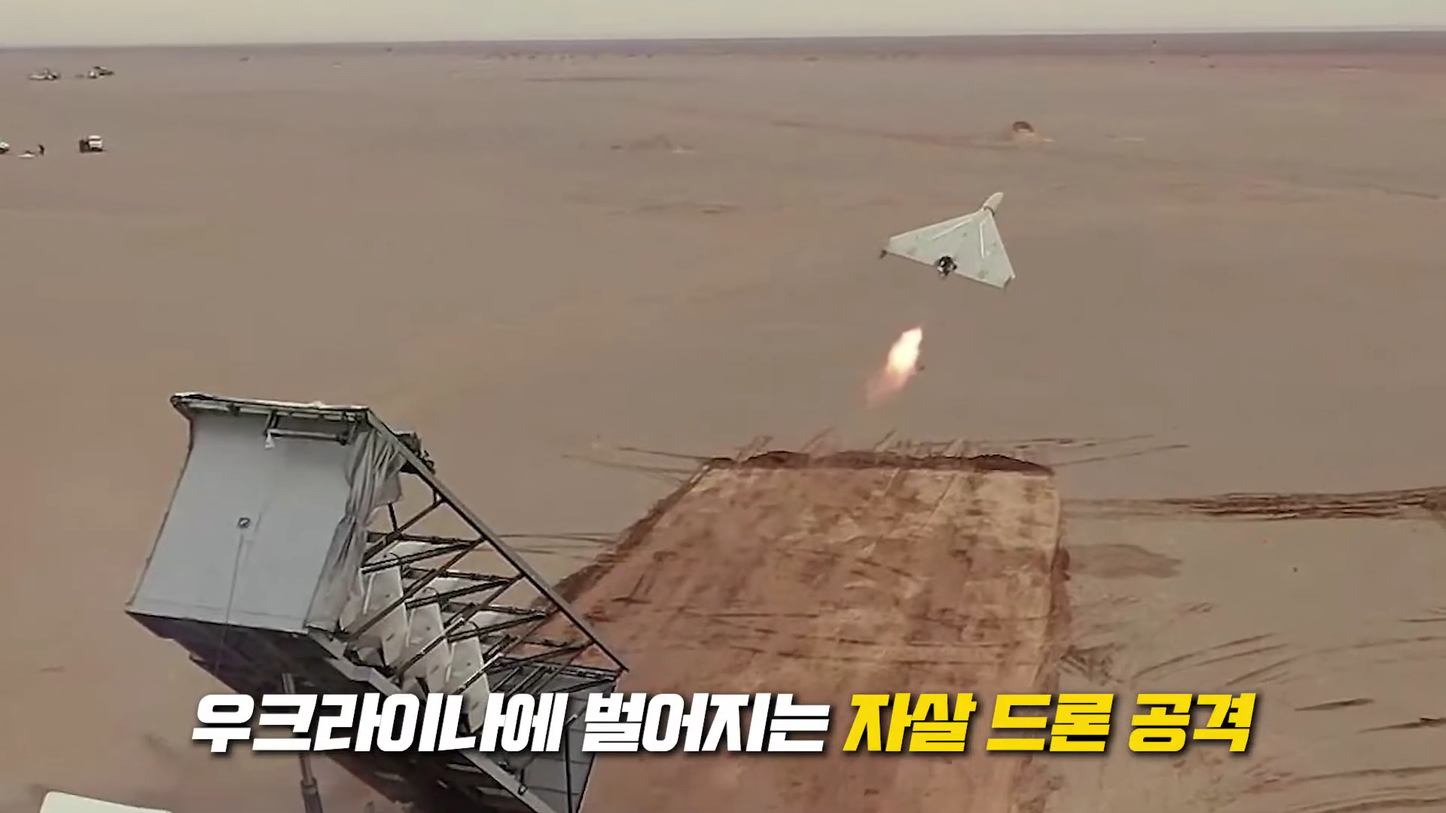shahed: (885, 186, 1019, 289)
